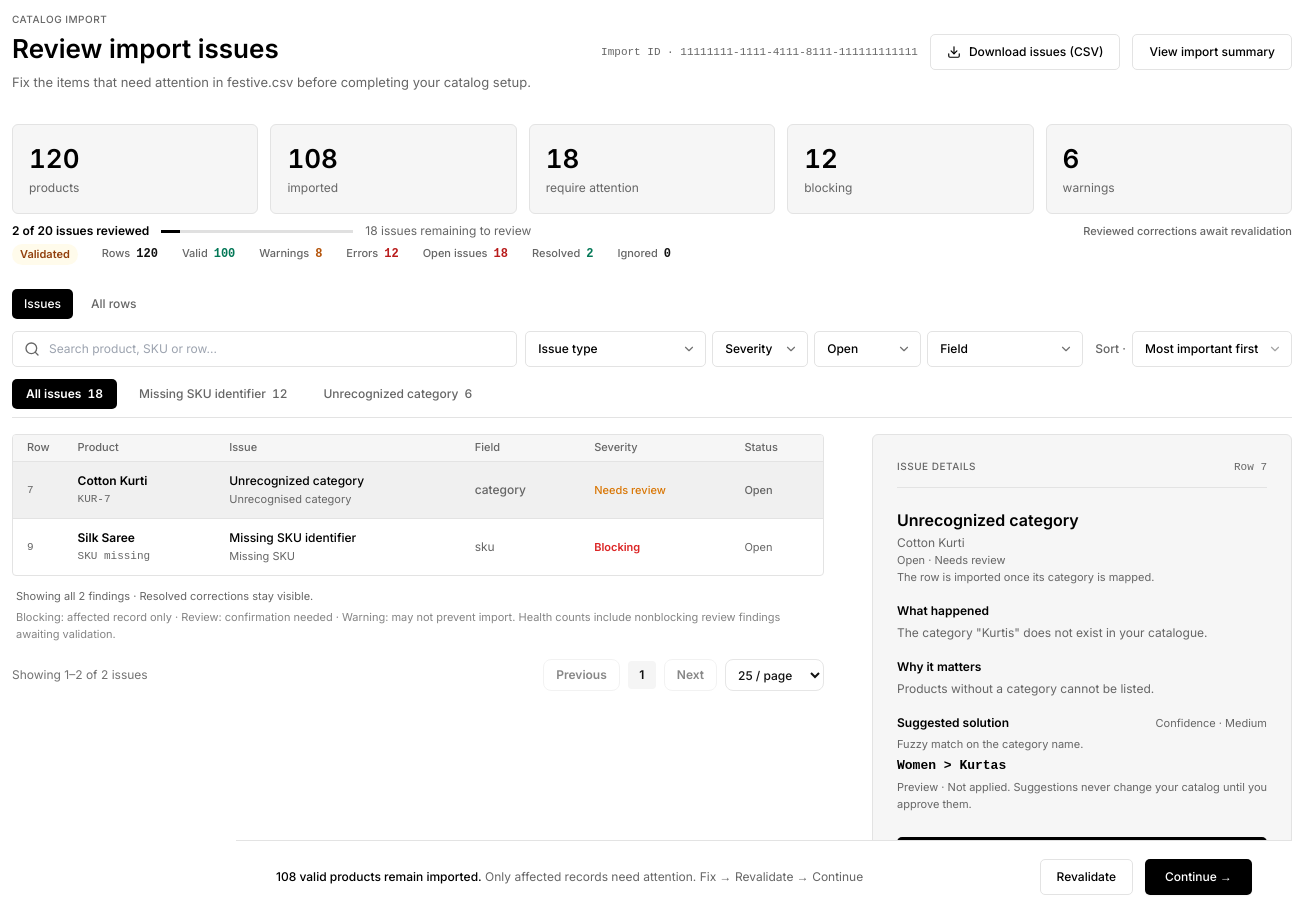
Test case: ImportIssuesPage › revalidates, inline or queued
Click the button "Revalidate" at {"x": 1086, "y": 876}, box [1040, 858, 1133, 894]
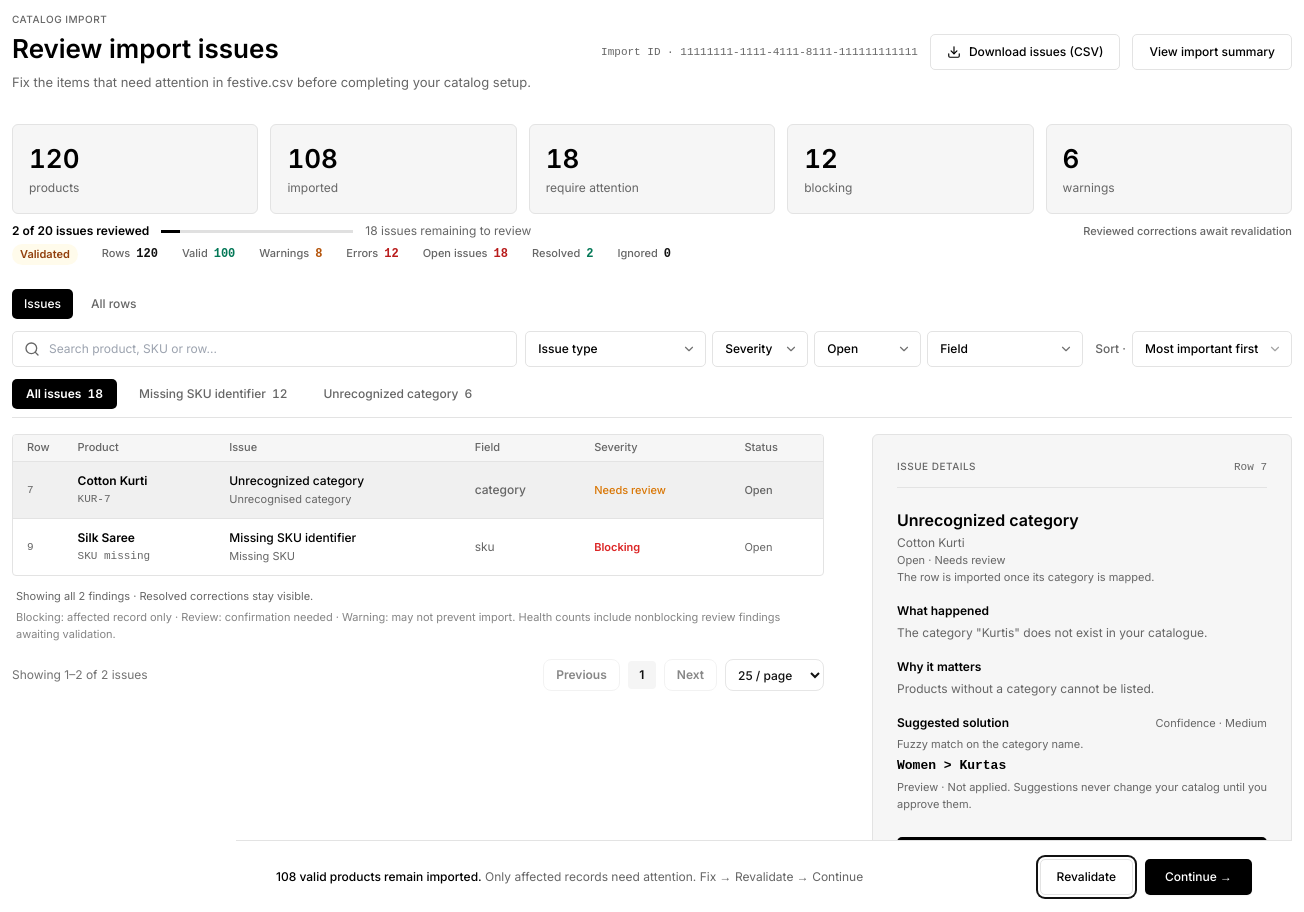
Click the button "Revalidate" at {"x": 1086, "y": 876}, box [1040, 858, 1133, 894]
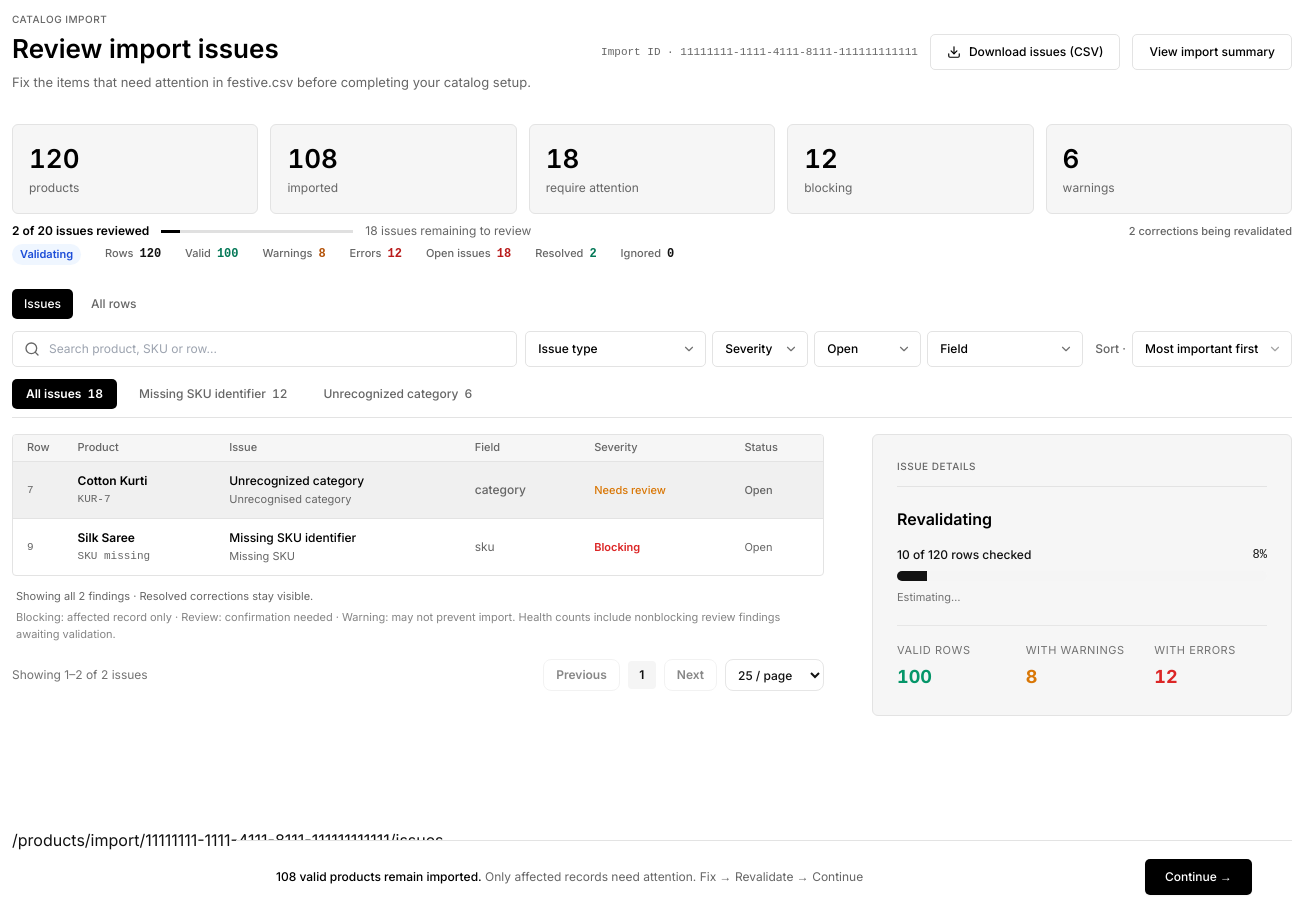
Now the heading "Revalidating" is shown, box [897, 508, 992, 528]
